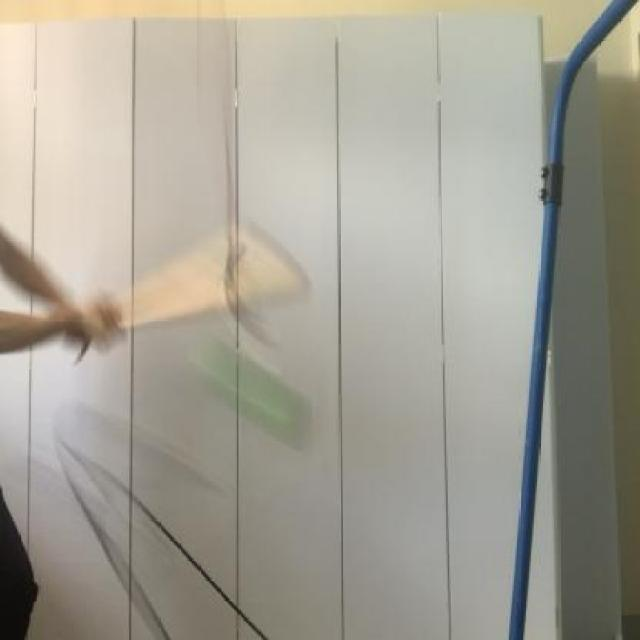baseball: (196, 335, 326, 462)
